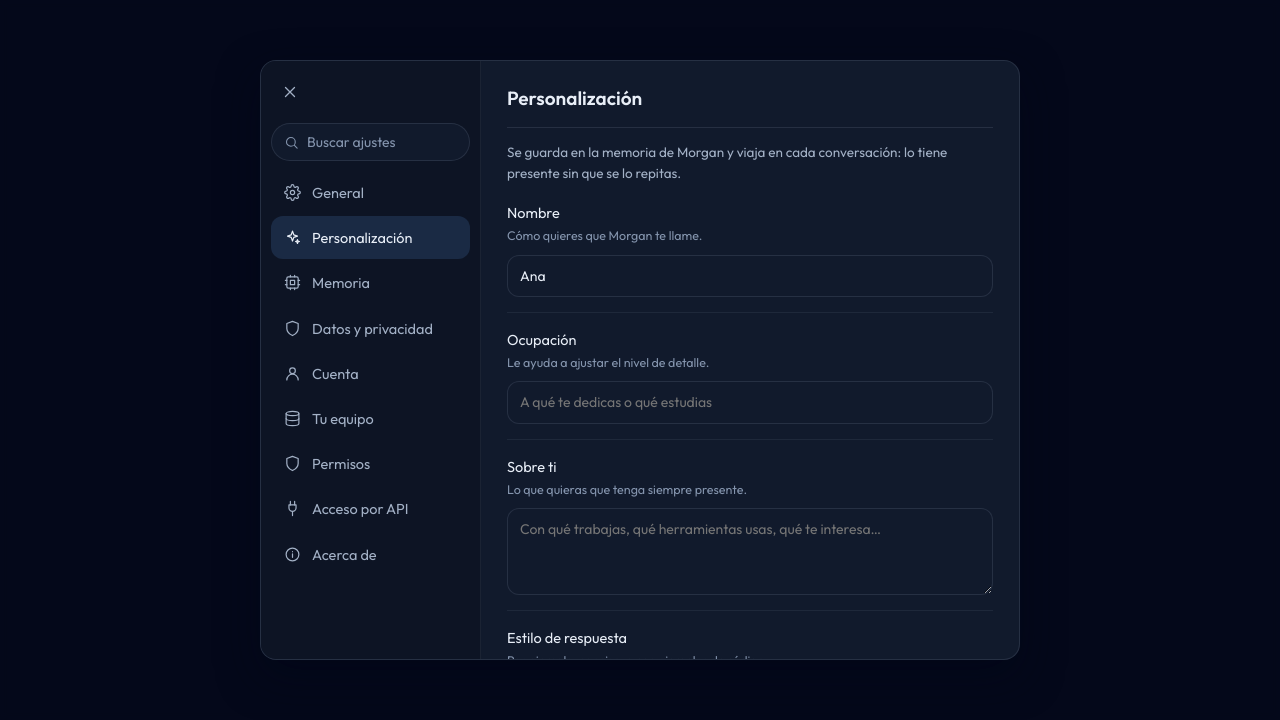
El panel de ajustes › el perfil solo se puede guardar si ha cambiado algo
Replace the text in the field showing "Ana" with "Ana María". click: (750, 276)
box: x1=507 y1=254 x2=993 y2=297
(page scrolled)
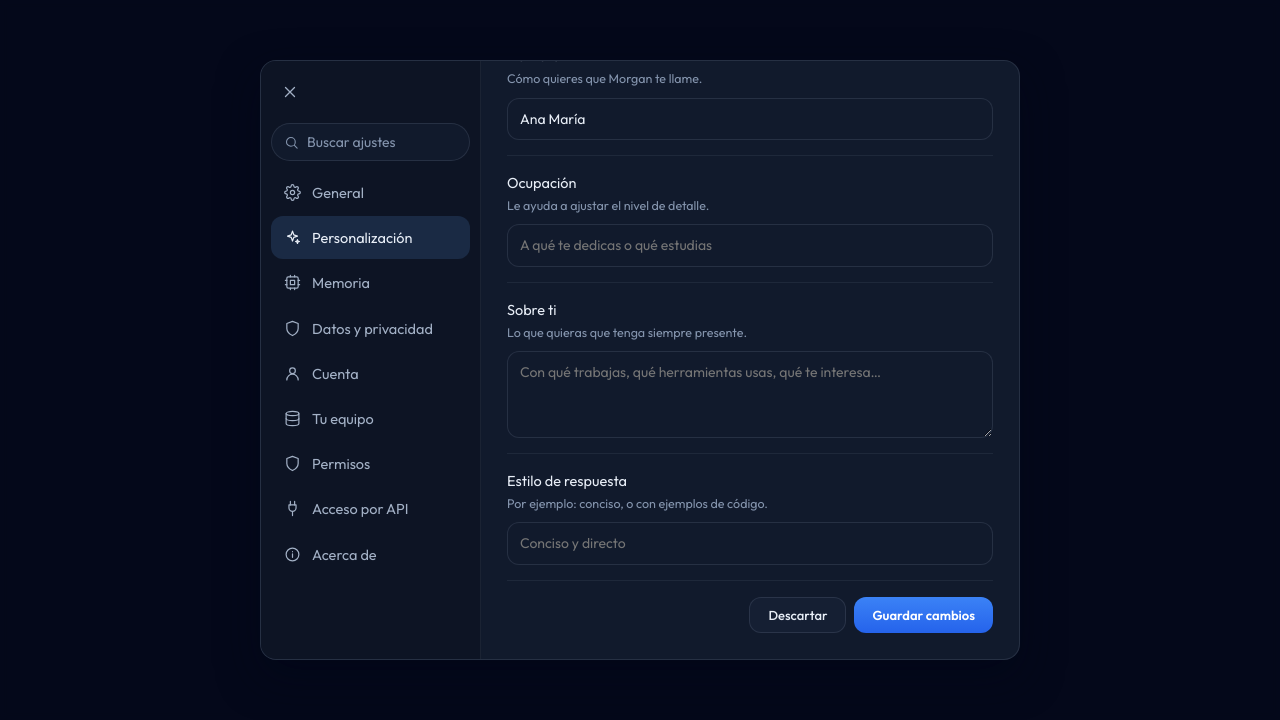
Expected: the button "Guardar cambios" is enabled, x1=854 y1=597 x2=993 y2=633
